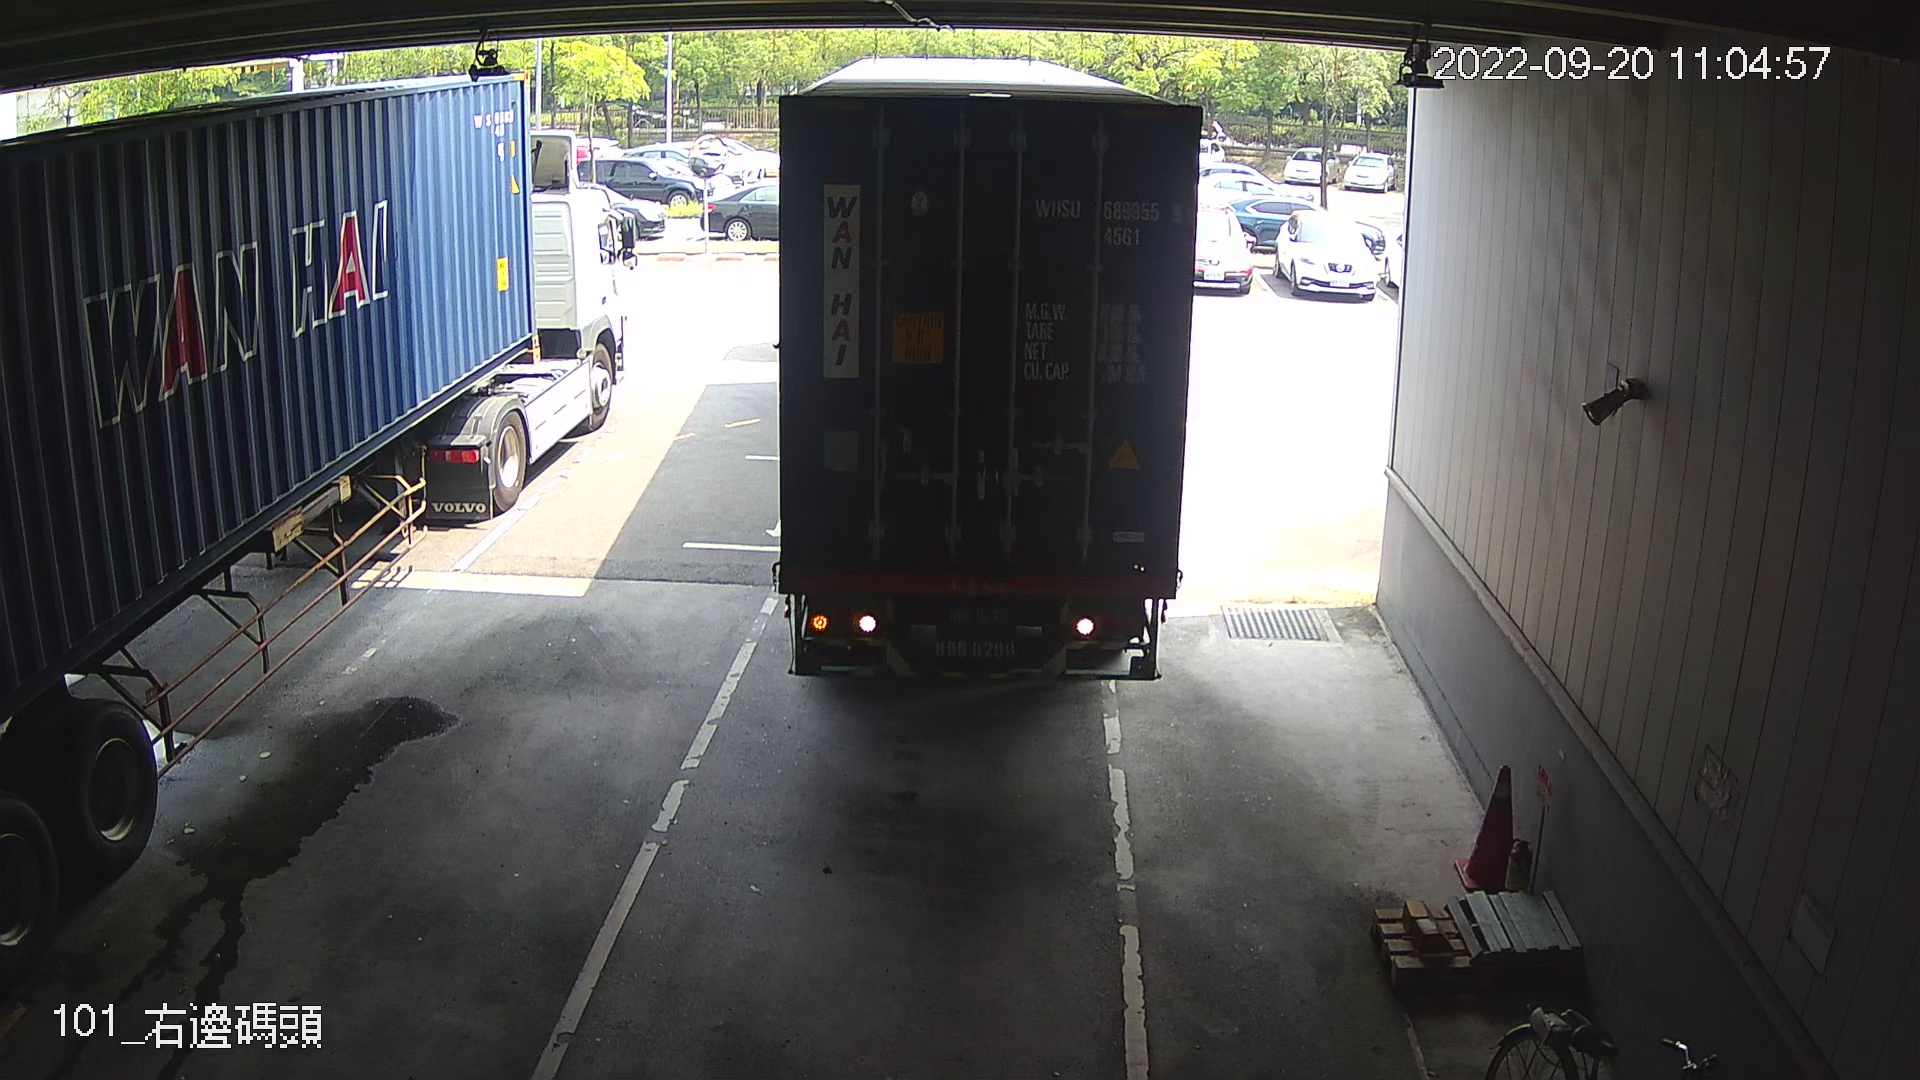container: (1023, 187, 1193, 252)
